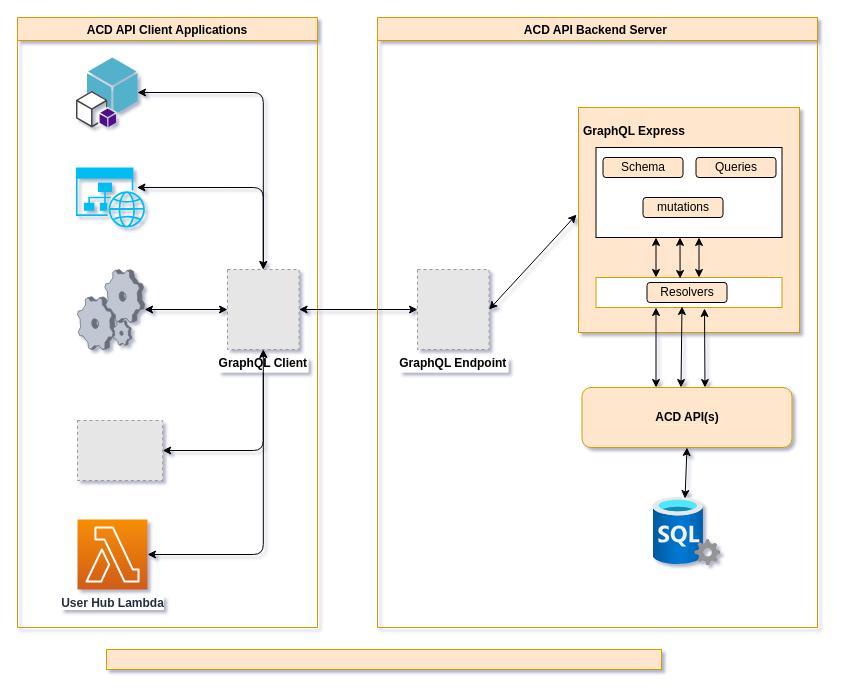
The diagram is 841 pixels wide and 693 high, and some of its shapes have lost their labels. Grey dashed boxes stand in for pictures. The centre of each missing label's shape, as x and y in pixels:
ACD GraphQL Middleware to Integrate ACD Client applications and Monolith APIs: (384,659)
COR Database: (686,531)
MAX Client: (111,197)
Studio: (106,92)
VC Service: (110,309)
